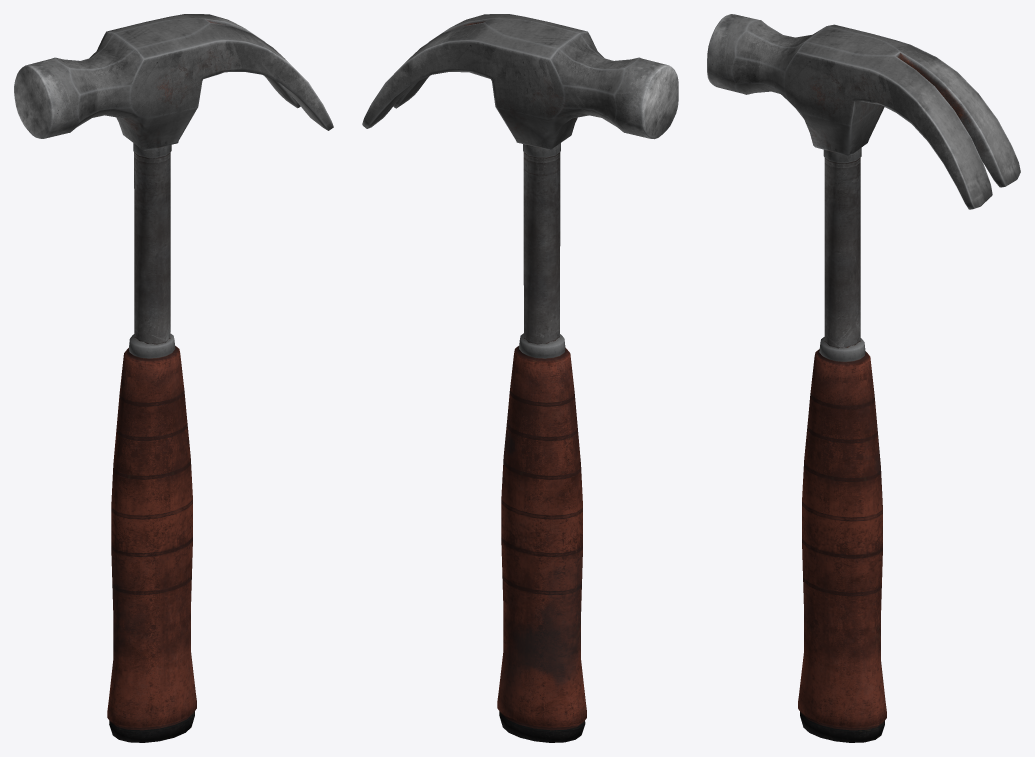
Rendered from hammer1.obj.
3 views of the same model, side by side, from view 1: azimuth 30°, elevation 25°; view 2: azimuth 150°, elevation 25°; view 3: azimuth 330°, elevation 25° (orthographic).
Parts seen in each view (by area): view 1: hammer; view 2: hammer; view 3: hammer.
Boxes of the visible parts, x1,y1,x2,y2 form: hammer: (14, 14, 333, 742); hammer: (362, 14, 678, 742); hammer: (707, 14, 1020, 742).
Bounding box in the file's own units: 0.1139 × 0.2713 × 0.035.
1 material, 1 textured.
